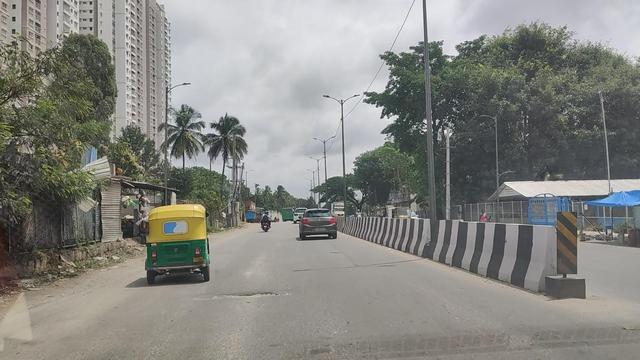LMV: (148, 203, 209, 282), (301, 211, 337, 236), (263, 209, 274, 230)
RoadDamages: (195, 287, 297, 305)
